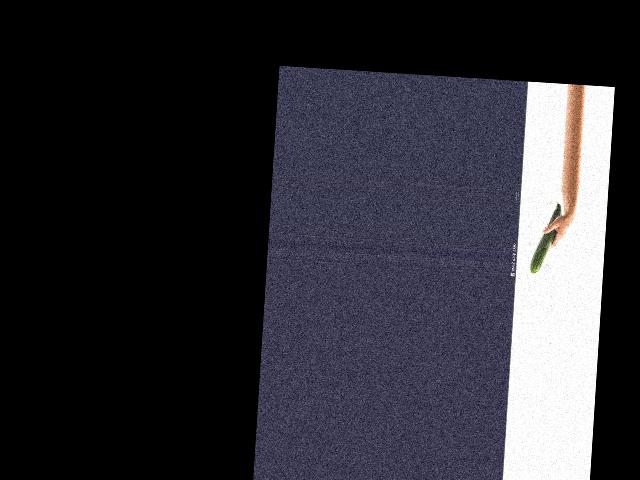cucumber: (529, 200, 562, 275)
